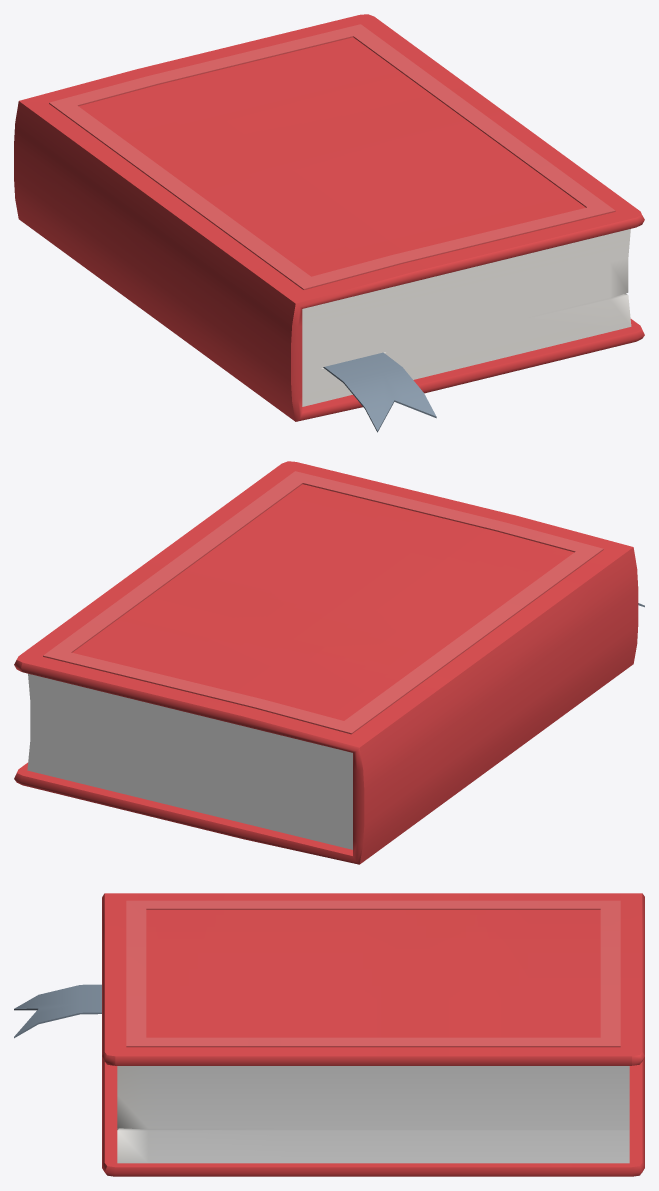
File: book.FBX
3 views of the same model, one above another, from view 1: azimuth 30°, elevation 25°; view 2: azimuth 150°, elevation 25°; view 3: azimuth 270°, elevation 25° (orthographic). The views are drawn at different scales.
Visible parts, largest first — view 1: Box019; view 2: Box019; view 3: Box019.
Part boxes in pixels (x1,y1,x2,y2): Box019: (14,14,644,432); Box019: (14,461,644,864); Box019: (14,893,644,1176).
Size of the model in its own units: 41.06 by 64.82 by 13.8.
